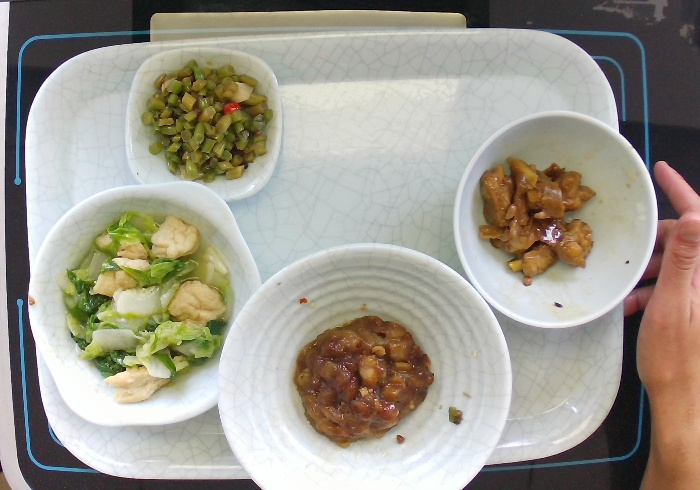JYsf-Fan_Wan: (454, 110, 659, 327)
JYsf-Shuang_Er_Wan: (32, 183, 255, 428)
JYsf-Si_Fang_Die: (123, 42, 291, 202)
JYsf-Xiao_Tang_Wan: (217, 239, 510, 490)
